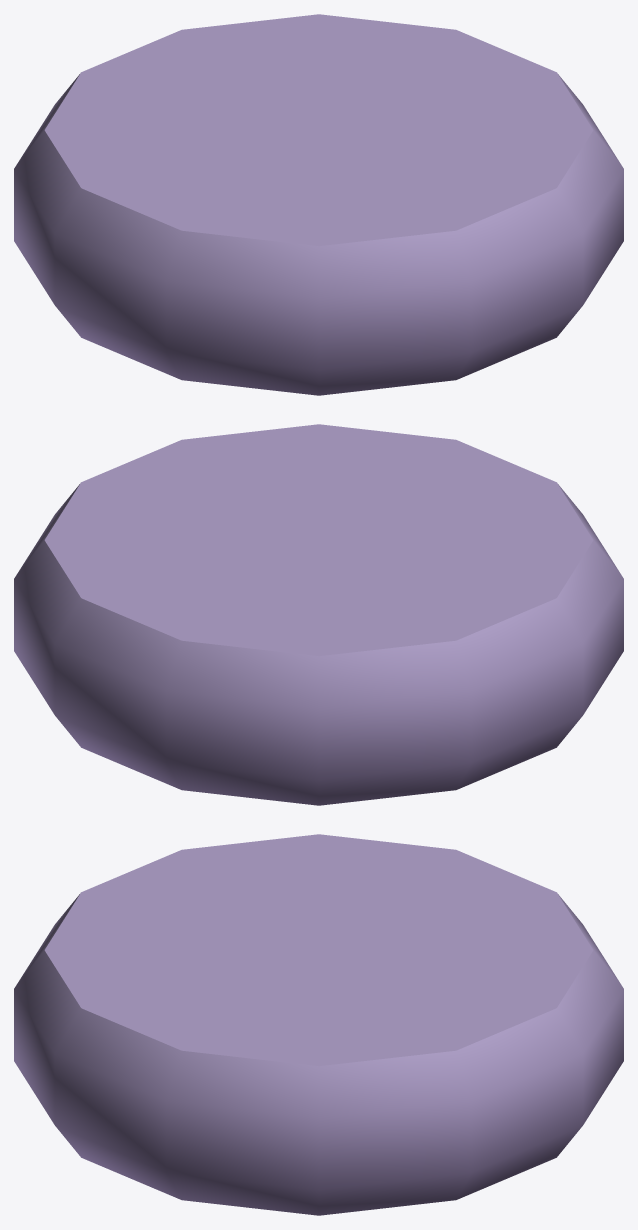
File: cushion-round.glb
3 views of the same model, one above another, from view 1: azimuth 30°, elevation 25°; view 2: azimuth 150°, elevation 25°; view 3: azimuth 270°, elevation 25° (orthographic).
Visible parts, largest first — view 1: cushion-round; view 2: cushion-round; view 3: cushion-round.
Boxes of the visible parts, bbox=[...] form: cushion-round: bbox=[14, 14, 623, 395]; cushion-round: bbox=[14, 424, 623, 805]; cushion-round: bbox=[14, 834, 623, 1215].
Bounding box in the file's own units: 0.5 × 0.1352 × 0.5.
